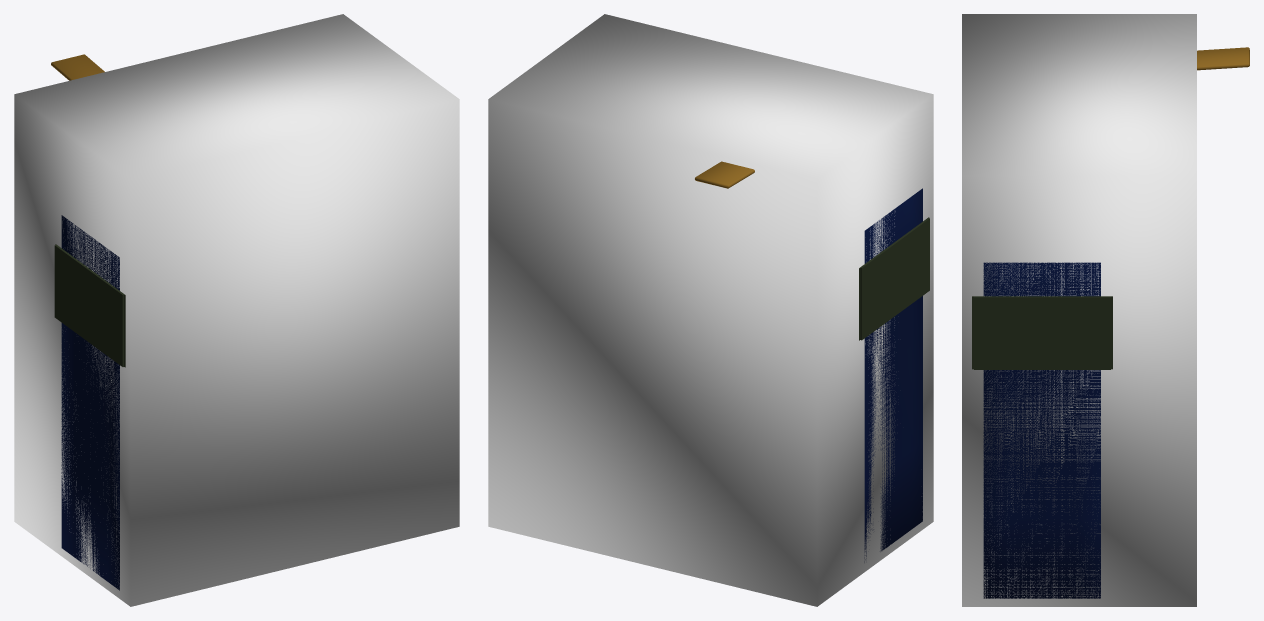
The model's file is pila_petaca.glb.
3 renders of one model, left to right at view 1: azimuth 30°, elevation 25°; view 2: azimuth 150°, elevation 25°; view 3: azimuth 270°, elevation 25°, orthographic.
Parts seen in each view (by area): view 1: pila-colcaja, pila, laminas; view 2: pila-colcaja, pila, laminas; view 3: pila-colcaja, pila, laminas.
Boxes of the visible parts, x1,y1,x2,y2 form: pila-colcaja: (14, 14, 459, 606); pila: (54, 215, 125, 590); laminas: (51, 54, 104, 80); pila-colcaja: (488, 14, 933, 606); pila: (859, 188, 929, 562); laminas: (695, 161, 754, 188); pila-colcaja: (962, 14, 1196, 606); pila: (972, 262, 1112, 598); laminas: (1197, 47, 1249, 70).
Bounding box in the file's own units: 0.0628 × 0.077 × 0.0466.
